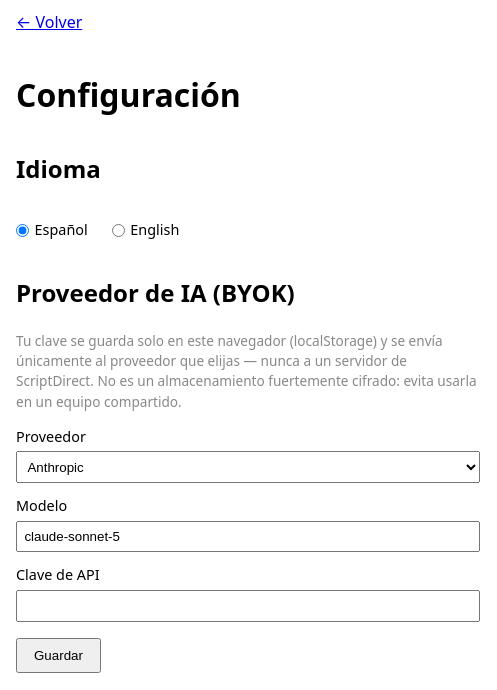
Test case: SettingsScreen › updates the default model when the provider changes
Select "OpenAI" in the dropdown labelled "Proveedor" at (248, 467), box 16,451 -> 480,483
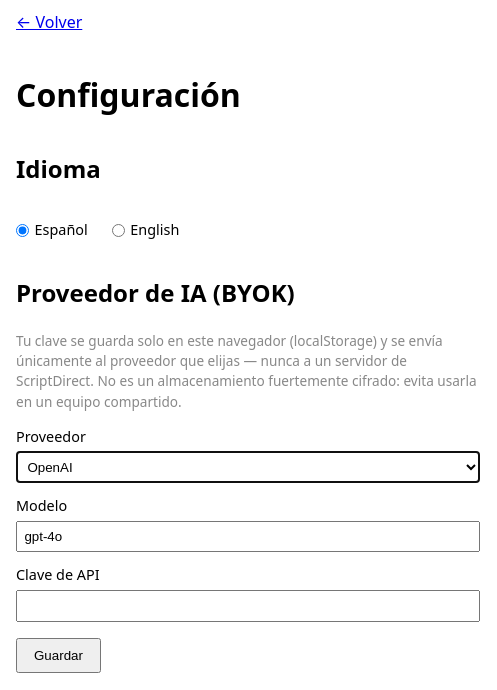
Result: the field labelled "Modelo" holds "gpt-4o" at 16,521 -> 480,552
